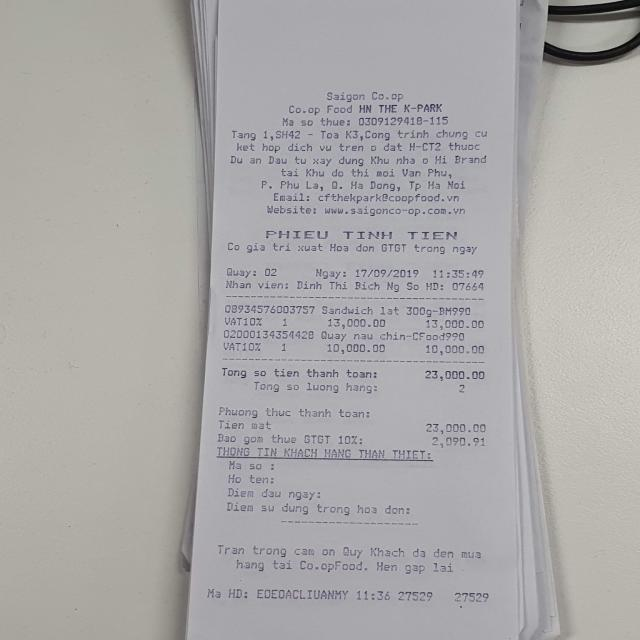Date: (352, 266, 420, 279)
Store_Name: (322, 88, 407, 103)
amount_number: (422, 368, 488, 382)
label_total: (220, 365, 374, 380)
